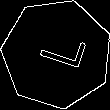L_W: (28, 31, 85, 76)
